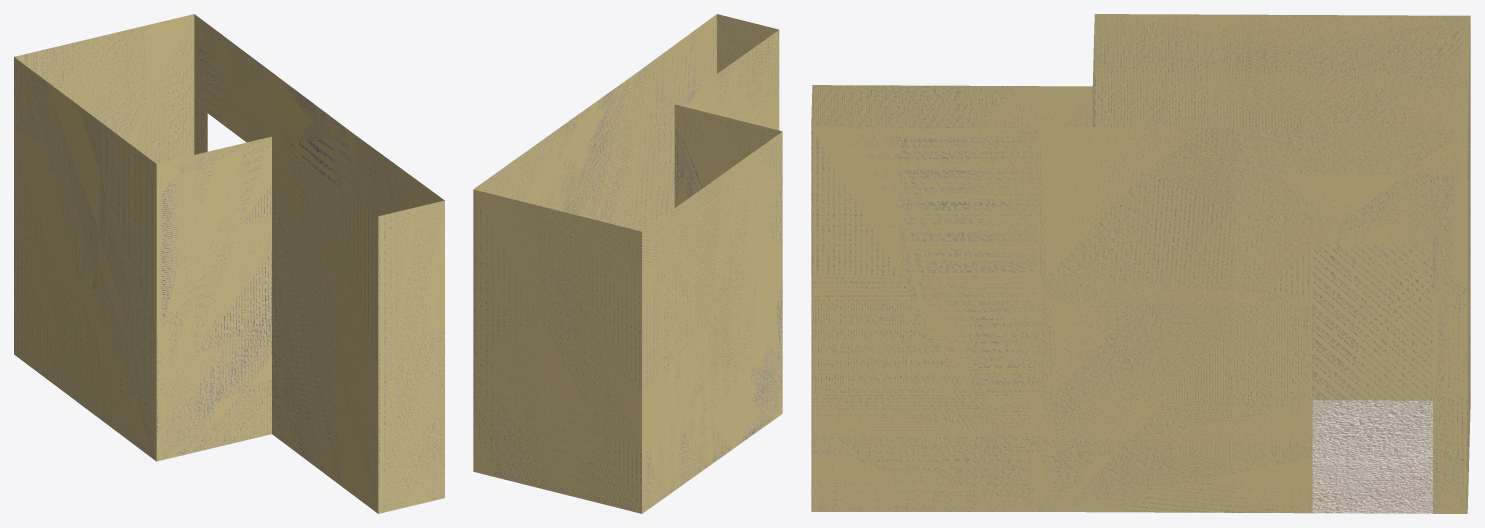
The model's file is CUA040.obj.
3 views of the same model, side by side, from view 1: azimuth 30°, elevation 25°; view 2: azimuth 150°, elevation 25°; view 3: azimuth 270°, elevation 25° (orthographic). The views are drawn at different scales.
Parts seen in each view (by area): view 1: Mesh1 CUA040 Model; view 2: Mesh1 CUA040 Model; view 3: Mesh1 CUA040 Model.
Part boxes in pixels (x1,y1,x2,y2): Mesh1 CUA040 Model: (14,14,444,513); Mesh1 CUA040 Model: (473,14,782,513); Mesh1 CUA040 Model: (811,14,1470,513).
Bounding box in the file's own units: 1.92 × 3 × 4.66.
3 materials, 2 textured.
